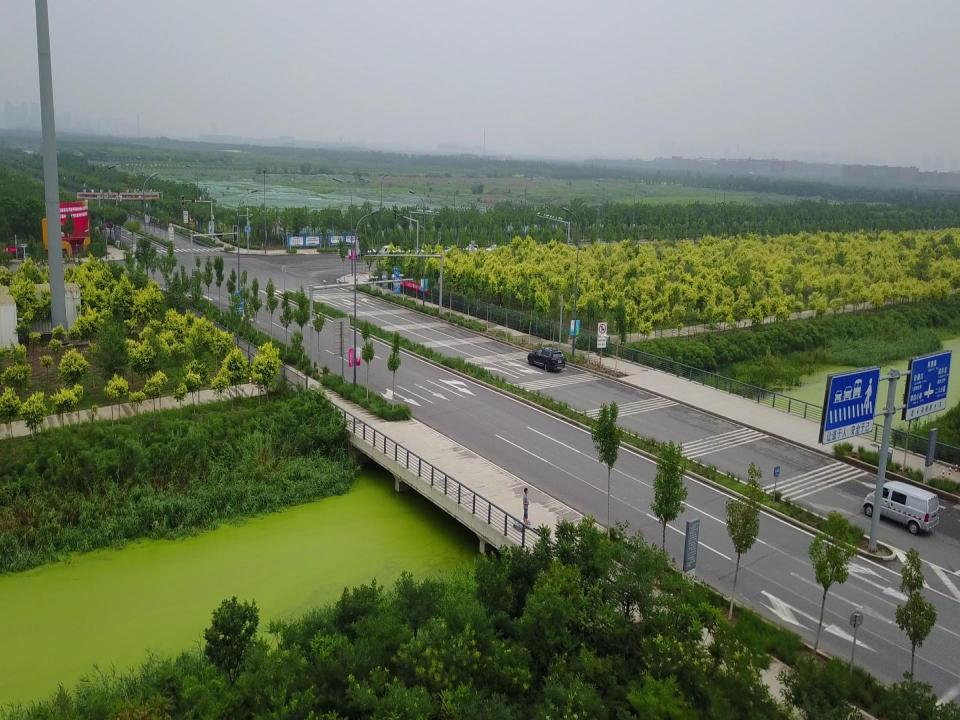car: (527, 346, 565, 373), (355, 248, 378, 259), (406, 246, 424, 257), (435, 246, 454, 255), (464, 244, 480, 254), (486, 245, 503, 254)
van: (864, 481, 938, 534), (379, 245, 395, 257)
